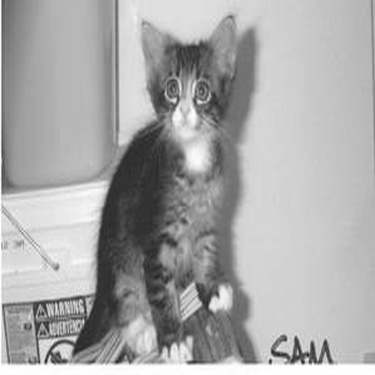cat: (46, 9, 261, 369)
